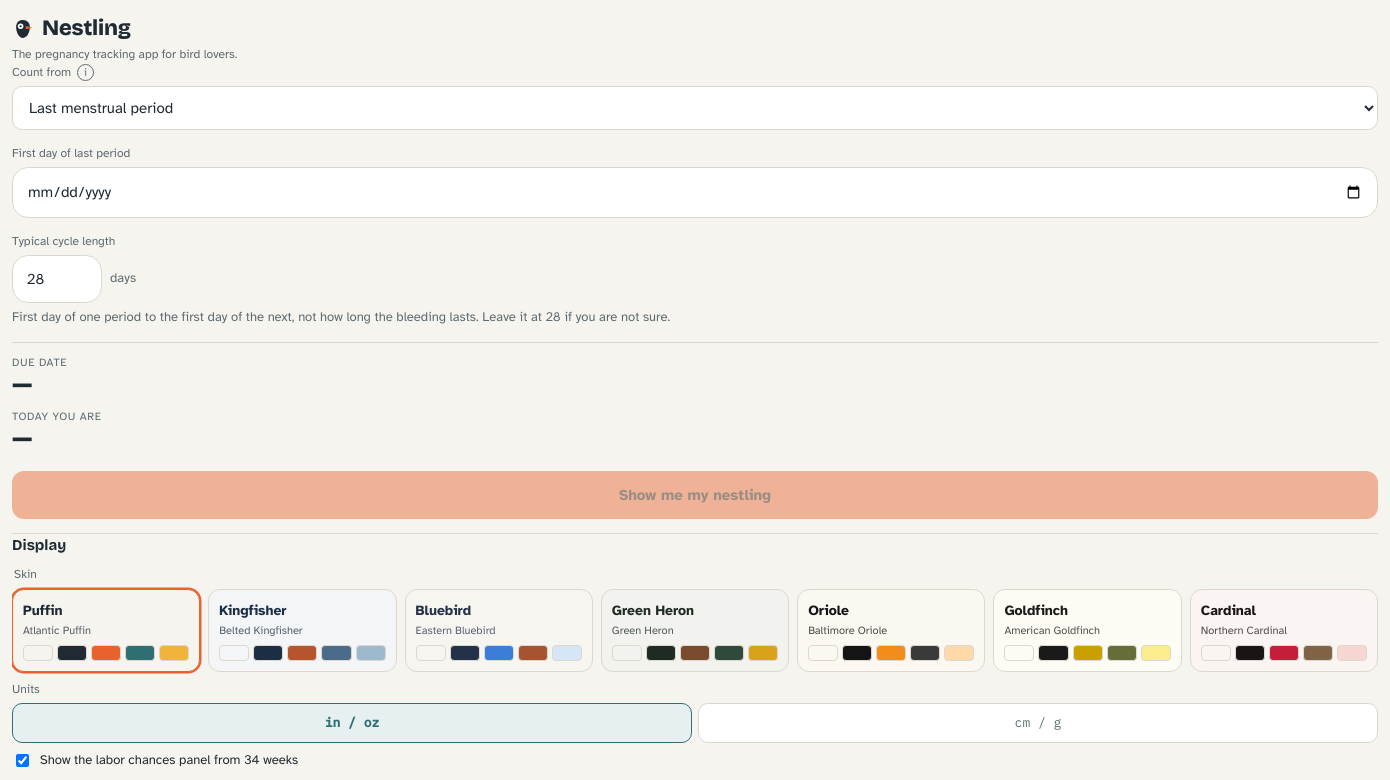
Test: Setup screen (mockup 1) › moves the due date by the cycle correction
The image size is (1390, 780).
Type "2026-03-29" into the date field labelled "First day of last period" at (695, 192), box [12,167,1378,218]
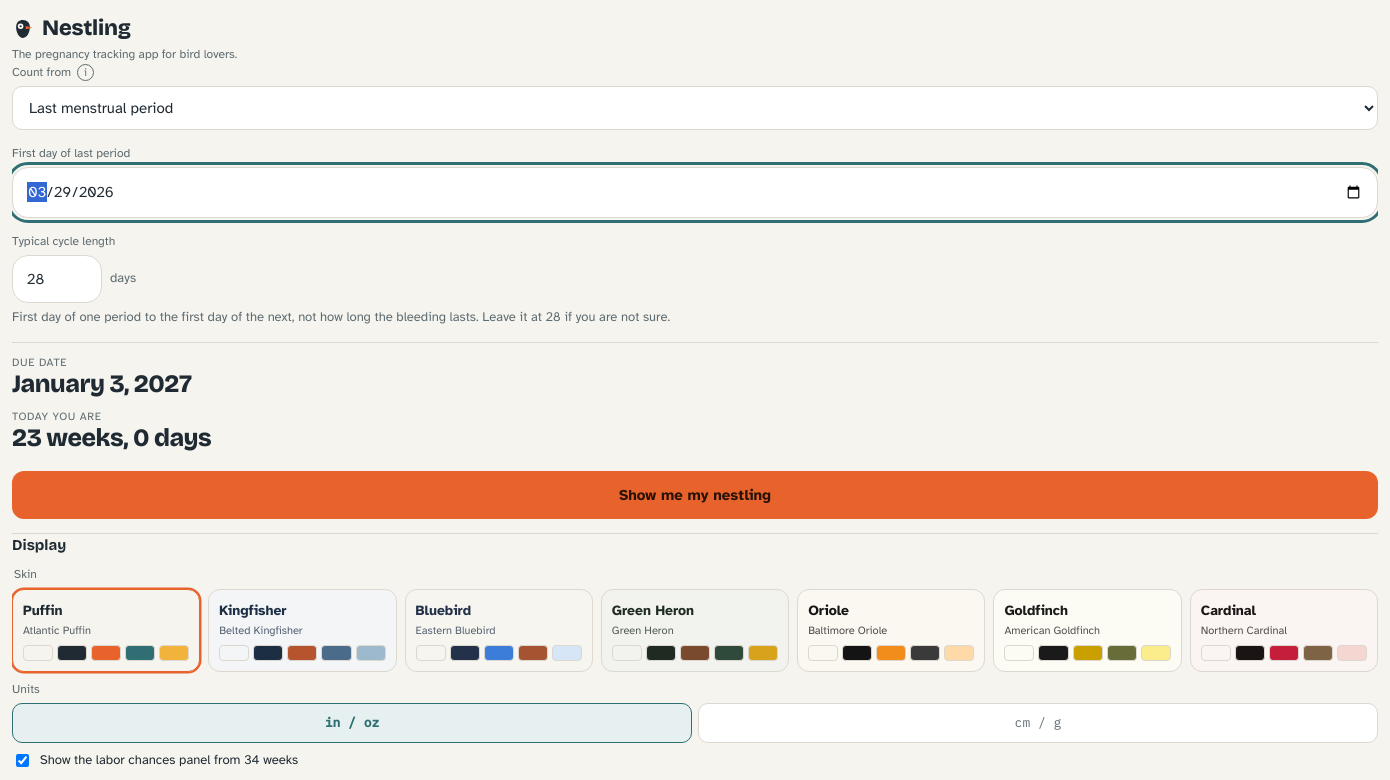
Now the text "January 3, 2027" is shown, box [12,369,191,399]
Replace the text in the number field labelled "Typical cycle length" with "35" at (57, 279), box [12,254,102,303]
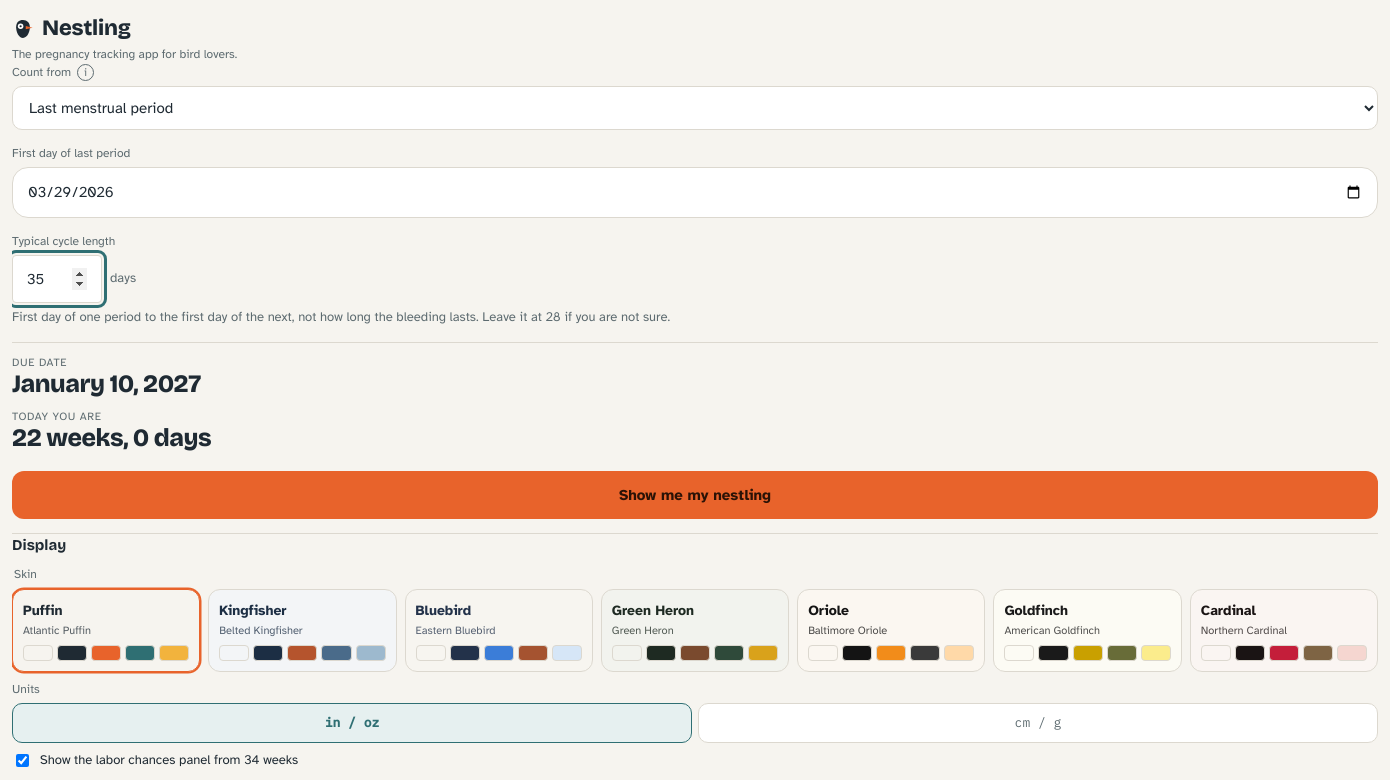
Now the text "January 10, 2027" is shown, box [12,369,201,399]
